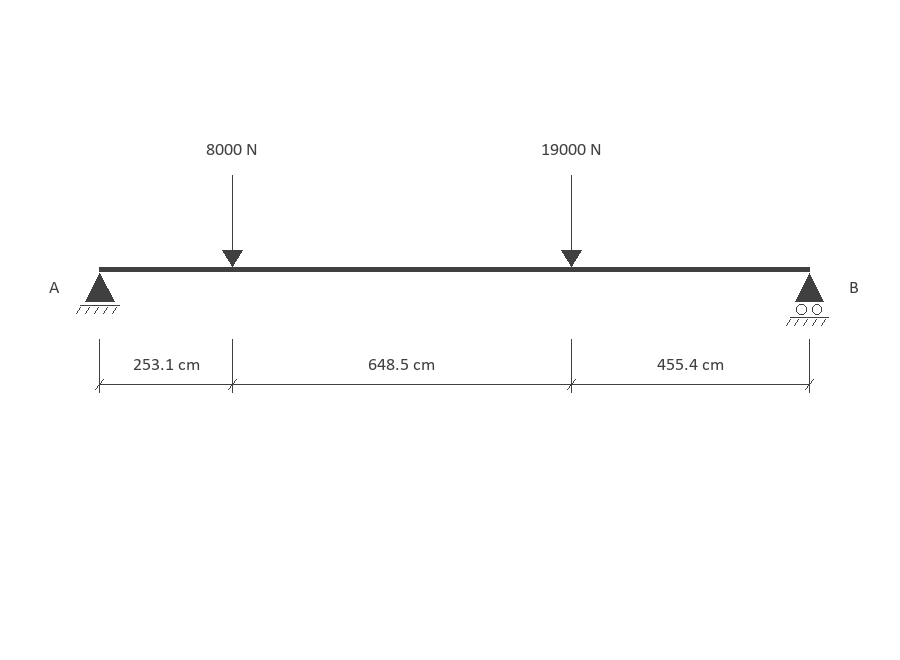pin_support: (76, 273, 120, 314)
point_load: (222, 175, 243, 267), (561, 175, 582, 267)
roller_support: (786, 273, 829, 326)
